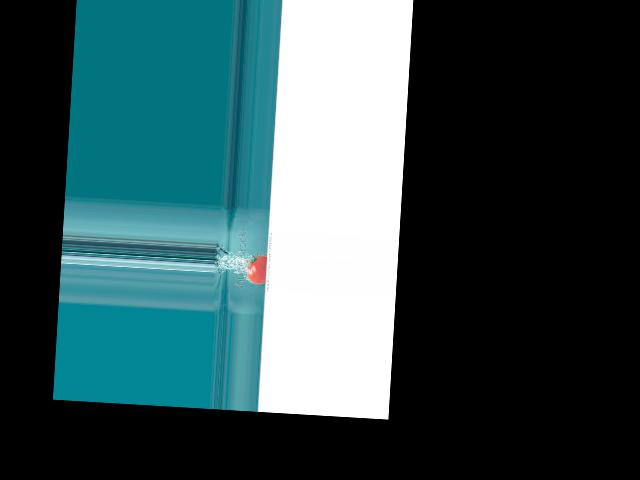tomato: (246, 253, 267, 284)
